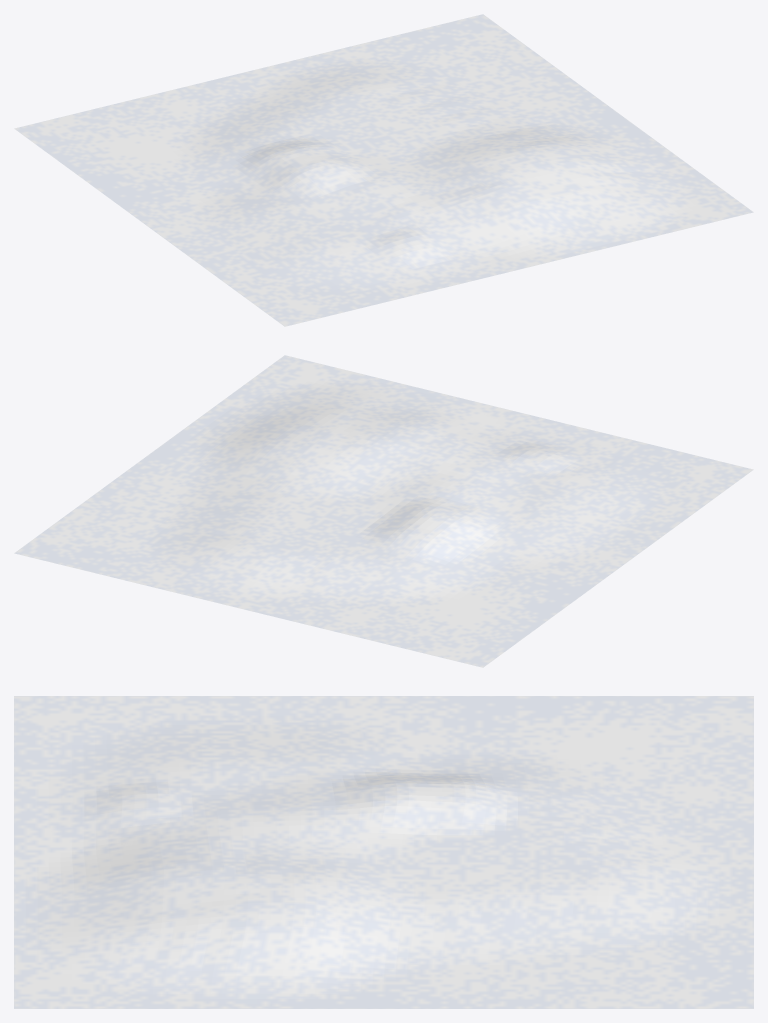
The model's file is Snow_Terrain_03.obj.
3 renders of one model, top to bottom at view 1: azimuth 30°, elevation 25°; view 2: azimuth 150°, elevation 25°; view 3: azimuth 270°, elevation 25°, orthographic. The views are drawn at different scales.
Parts seen in each view (by area): view 1: chunk_mesh-col; view 2: chunk_mesh-col; view 3: chunk_mesh-col.
Part boxes in pixels (<box>): chunk_mesh-col: <box>14,14,753,326</box>; chunk_mesh-col: <box>14,355,753,667</box>; chunk_mesh-col: <box>14,696,753,1008</box>.
Size of the model in its own units: 64 by 1.95 by 64.
